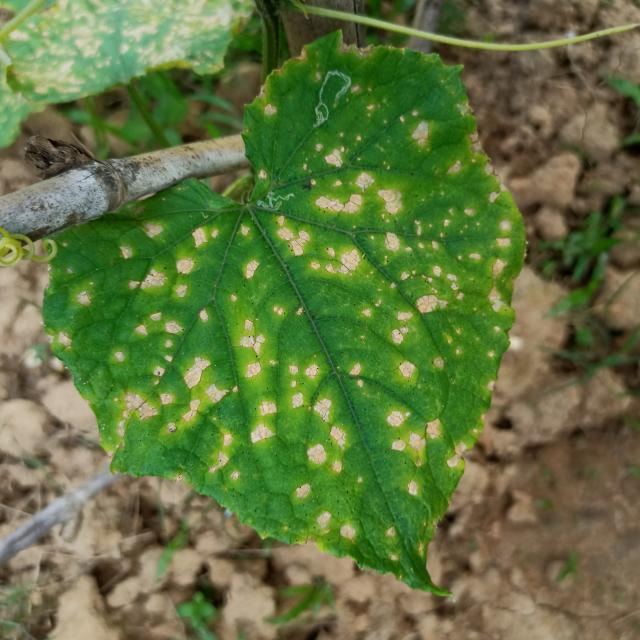disease_cucumber: (68, 81, 506, 565)
